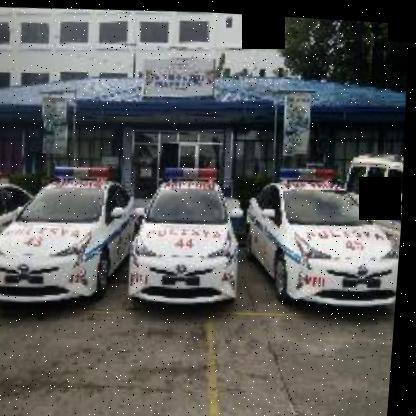emergency: (0, 144, 407, 366)
